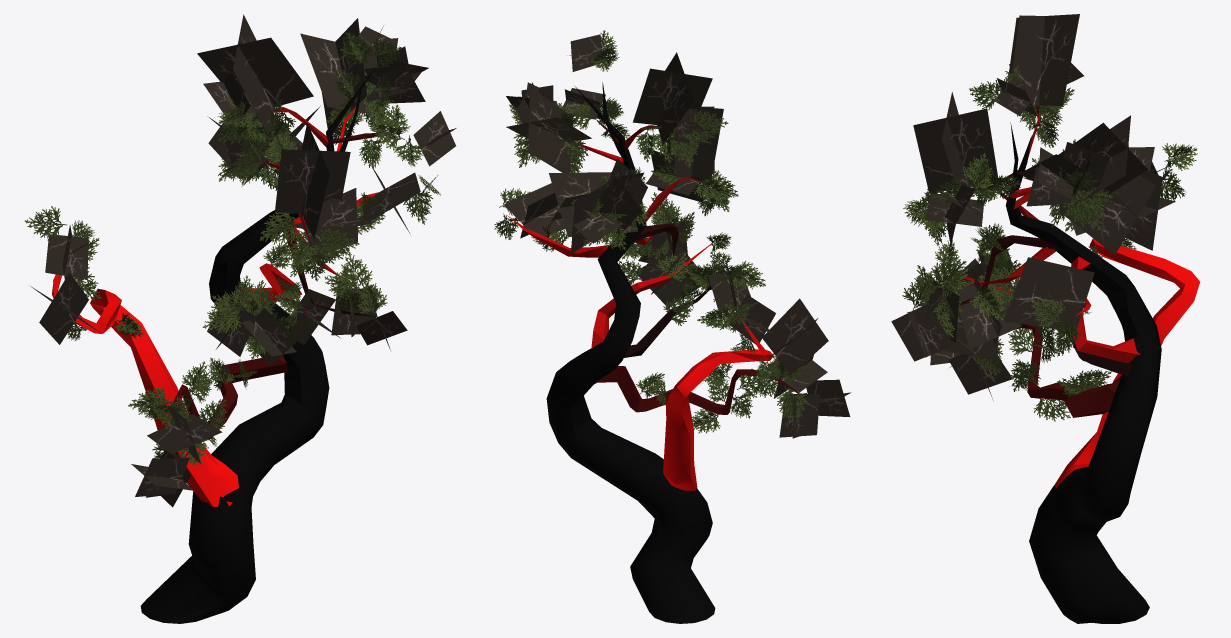
Rendered from cpine1 lod1.FBX.
3 views of the same model, side by side, from view 1: azimuth 30°, elevation 25°; view 2: azimuth 150°, elevation 25°; view 3: azimuth 270°, elevation 25° (orthographic). The views are drawn at different scales.
Visible parts, largest first — view 1: cpine1_LOD1; view 2: cpine1_LOD1; view 3: cpine1_LOD1.
Boxes of the visible parts, <box> form: cpine1_LOD1: <box>24,14,456,623</box>; cpine1_LOD1: <box>494,30,851,623</box>; cpine1_LOD1: <box>891,14,1199,623</box>.
Bounding box in the file's own units: 79977 × 114183 × 56167.
